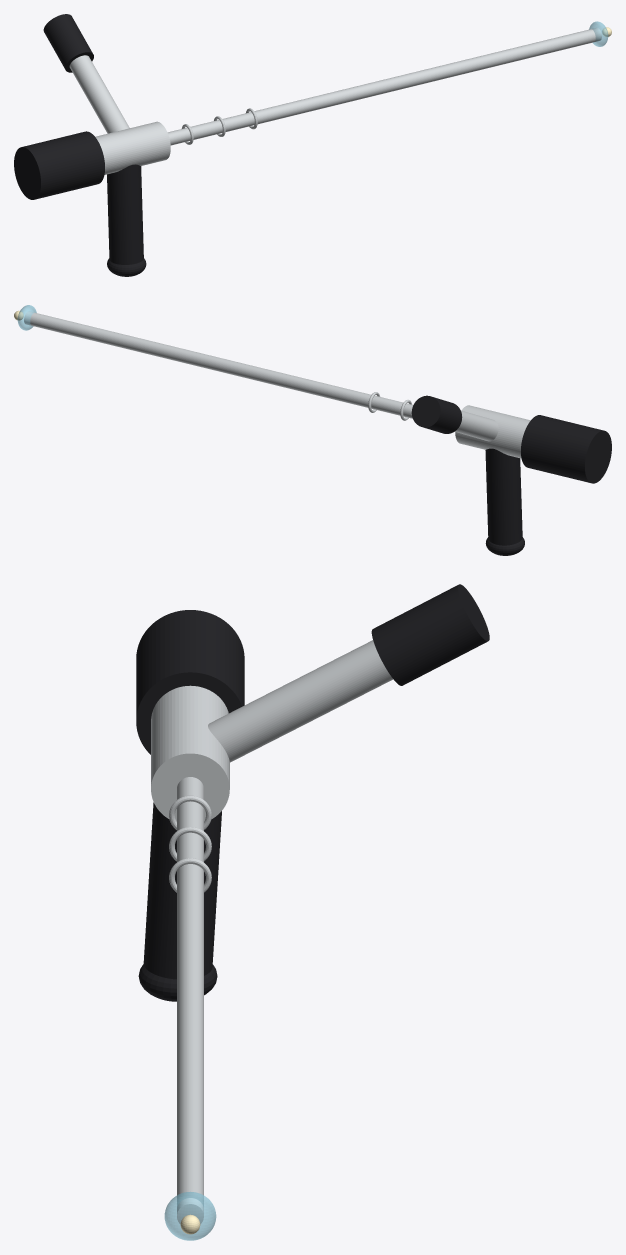
File: sursalum.fbx
3 views of the same model, one above another, from view 1: azimuth 30°, elevation 25°; view 2: azimuth 150°, elevation 25°; view 3: azimuth 270°, elevation 25° (orthographic). The views are drawn at different scales.
Parts seen in each view (by area): view 1: Tija laparoscopica metalica, Ocular laparoscop, Maner inferior, Corp proximal laparoscop, Port lateral fibra optica, Conector port lumina, Cap maner; view 2: Tija laparoscopica metalica, Ocular laparoscop, Maner inferior, Corp proximal laparoscop, Conector port lumina, Port lateral fibra optica, Cap maner; view 3: Tija laparoscopica metalica, Ocular laparoscop, Port lateral fibra optica, Corp proximal laparoscop, Conector port lumina, Maner inferior, Lentila distala, Cap maner.
Part boxes in pixels (<box>): Tija laparoscopica metalica: <box>167,27,601,145</box>; Ocular laparoscop: <box>14,131,104,199</box>; Maner inferior: <box>107,164,143,264</box>; Corp proximal laparoscop: <box>95,121,170,174</box>; Port lateral fibra optica: <box>69,55,129,133</box>; Conector port lumina: <box>43,14,93,72</box>; Cap maner: <box>107,258,146,276</box>; Tija laparoscopica metalica: <box>24,311,413,418</box>; Ocular laparoscop: <box>521,415,611,483</box>; Maner inferior: <box>485,448,522,545</box>; Corp proximal laparoscop: <box>455,405,530,458</box>; Conector port lumina: <box>411,395,462,433</box>; Port lateral fibra optica: <box>455,410,498,441</box>; Cap maner: <box>485,537,524,555</box>; Tija laparoscopica metalica: <box>177,777,203,1224</box>; Ocular laparoscop: <box>136,610,244,754</box>; Port lateral fibra optica: <box>208,640,393,762</box>; Corp proximal laparoscop: <box>151,685,229,821</box>; Conector port lumina: <box>371,584,489,685</box>; Maner inferior: <box>143,802,221,979</box>; Lentila distala: <box>164,1191,216,1240</box>; Cap maner: <box>138,964,217,1001</box>.
Bounding box in the file's own units: 547 × 185 × 143.
